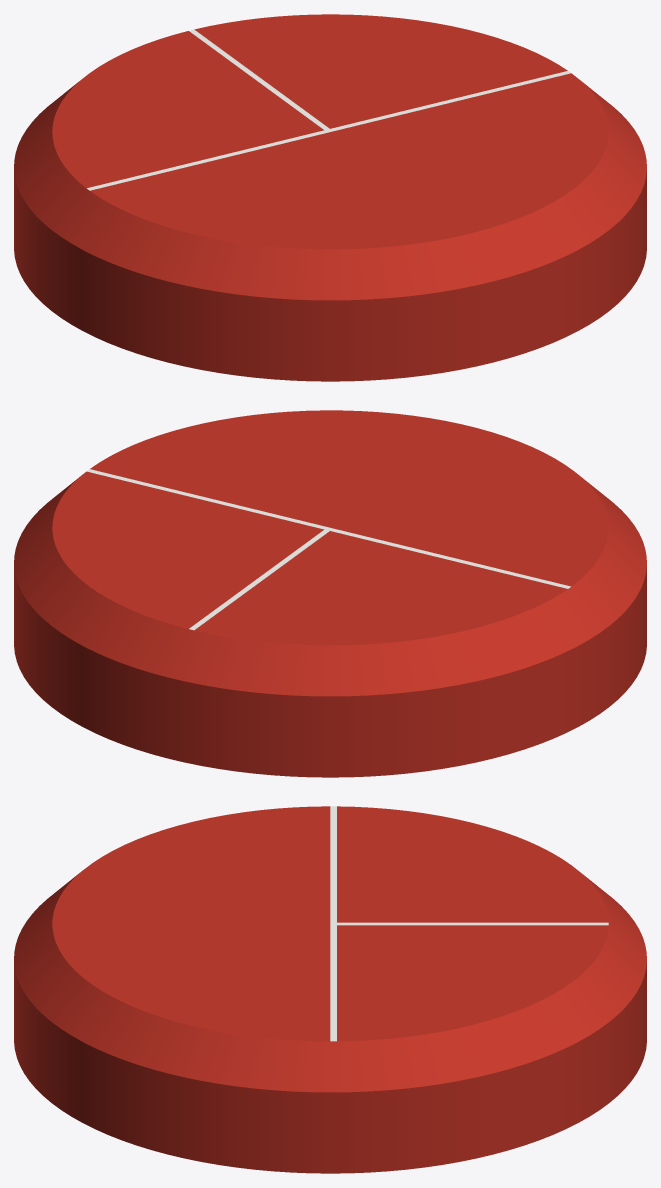
The model's file is disk_link.dae.
3 renders of one model, top to bottom at view 1: azimuth 30°, elevation 25°; view 2: azimuth 150°, elevation 25°; view 3: azimuth 270°, elevation 25°, orthographic.
Parts seen in each view (by area): view 1: disk_link; view 2: disk_link; view 3: disk_link.
Boxes of the visible parts, x1,y1,x2,y2 form: disk_link: (14, 14, 646, 381); disk_link: (14, 410, 646, 777); disk_link: (14, 806, 646, 1173).
Size of the model in its own units: 0.0495 by 0.0495 by 0.01.
